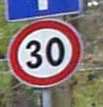limite 30: (6, 17, 82, 88)
